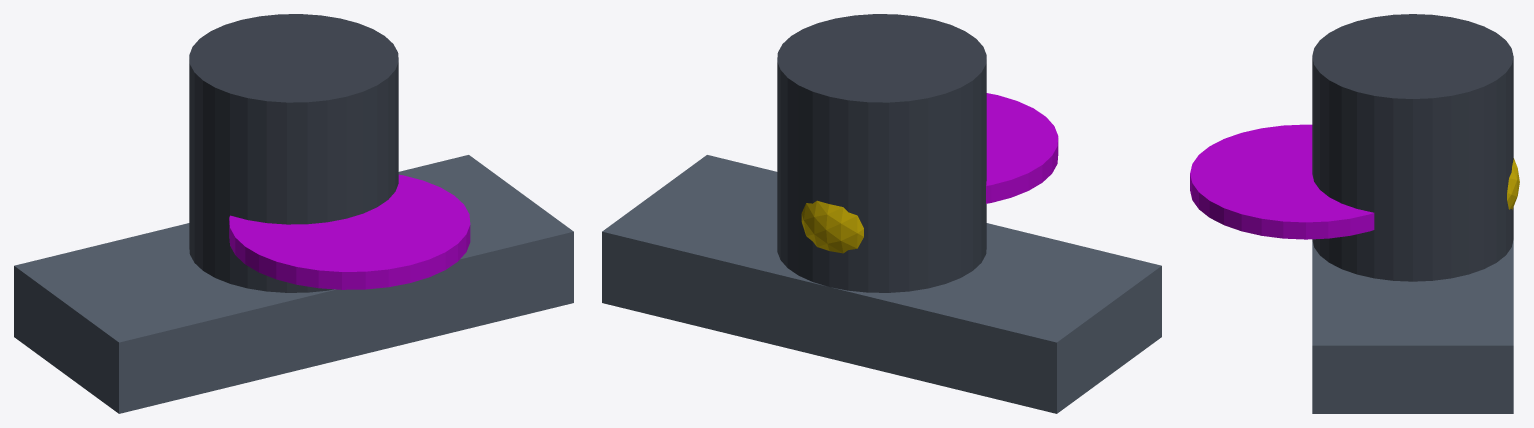
Rendered from exhaust_port.glb.
3 views of the same model, side by side, from view 1: azimuth 30°, elevation 25°; view 2: azimuth 150°, elevation 25°; view 3: azimuth 270°, elevation 25° (orthographic). The views are drawn at different scales.
Parts seen in each view (by area): view 1: exhaust_base, exhaust_duct, ray_shield_ring; view 2: exhaust_base, exhaust_duct, ray_shield_ring, pheromone_reactor_core; view 3: exhaust_duct, exhaust_base, ray_shield_ring, pheromone_reactor_core.
Boxes of the visible parts, x1,y1,x2,y2 form: exhaust_base: [14, 155, 573, 413]; exhaust_duct: [189, 14, 398, 292]; ray_shield_ring: [229, 174, 470, 289]; exhaust_base: [602, 155, 1161, 413]; exhaust_duct: [777, 14, 986, 292]; ray_shield_ring: [986, 93, 1058, 203]; pheromone_reactor_core: [801, 200, 863, 253]; exhaust_duct: [1312, 14, 1513, 281]; exhaust_base: [1312, 240, 1513, 413]; ray_shield_ring: [1190, 124, 1374, 239]; pheromone_reactor_core: [1507, 158, 1519, 209].
Size of the model in its own units: 40 by 22 by 26.2.
